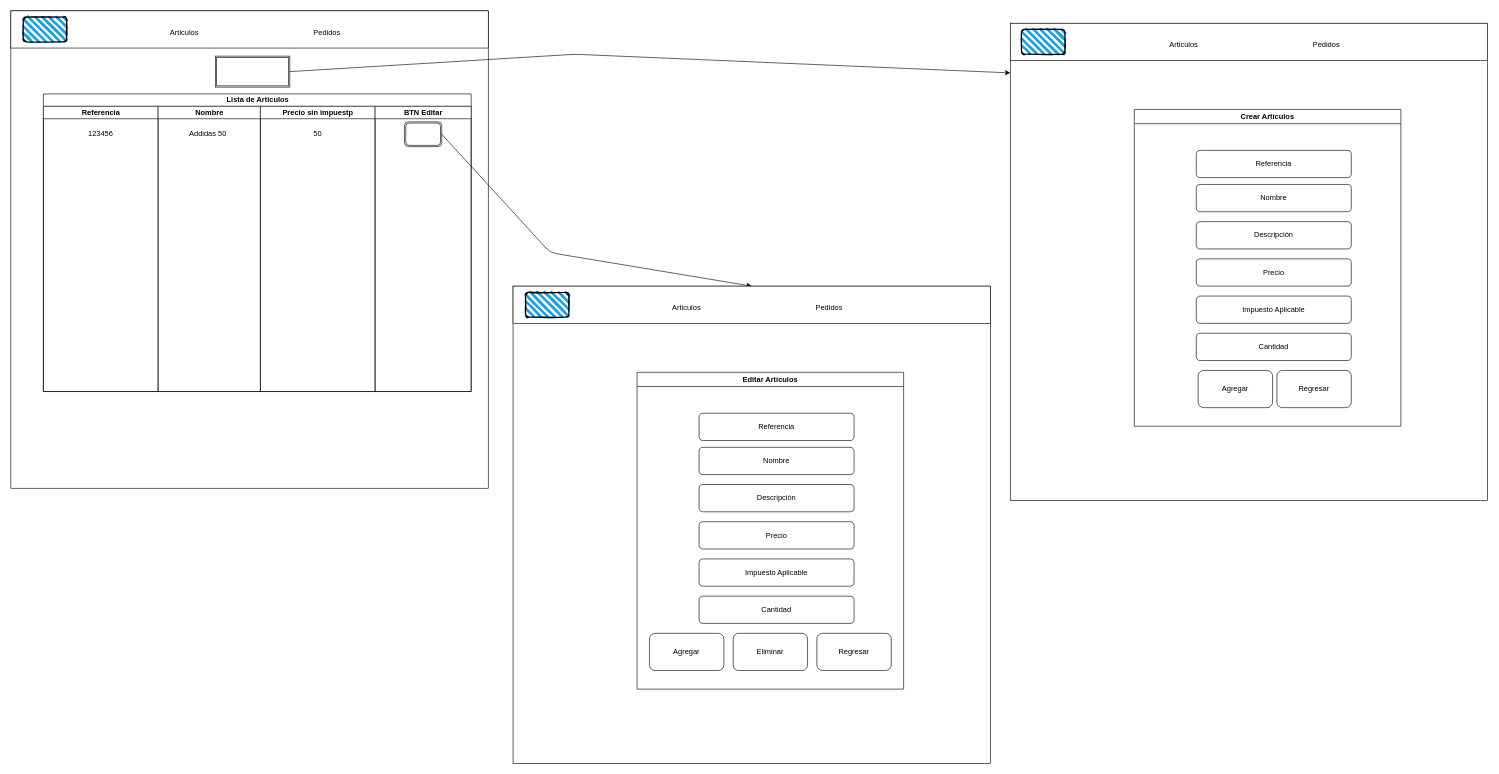
Image size: 1499x774. Some labels were removed from this diagram. Each missing label, with the centre of its shape:
"Crear Artículo" belongs at point (252, 71).
"Editar" belongs at point (423, 134).
